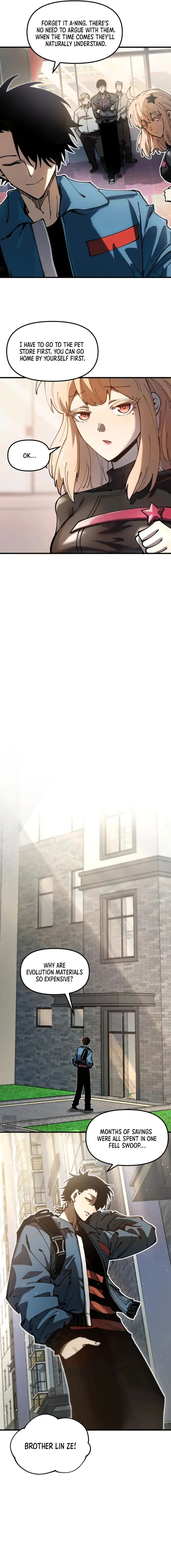bubbles: (24, 0, 125, 76), (4, 320, 100, 382), (83, 1108, 170, 1176), (9, 1413, 93, 1478), (19, 946, 91, 1019), (6, 438, 61, 473)
